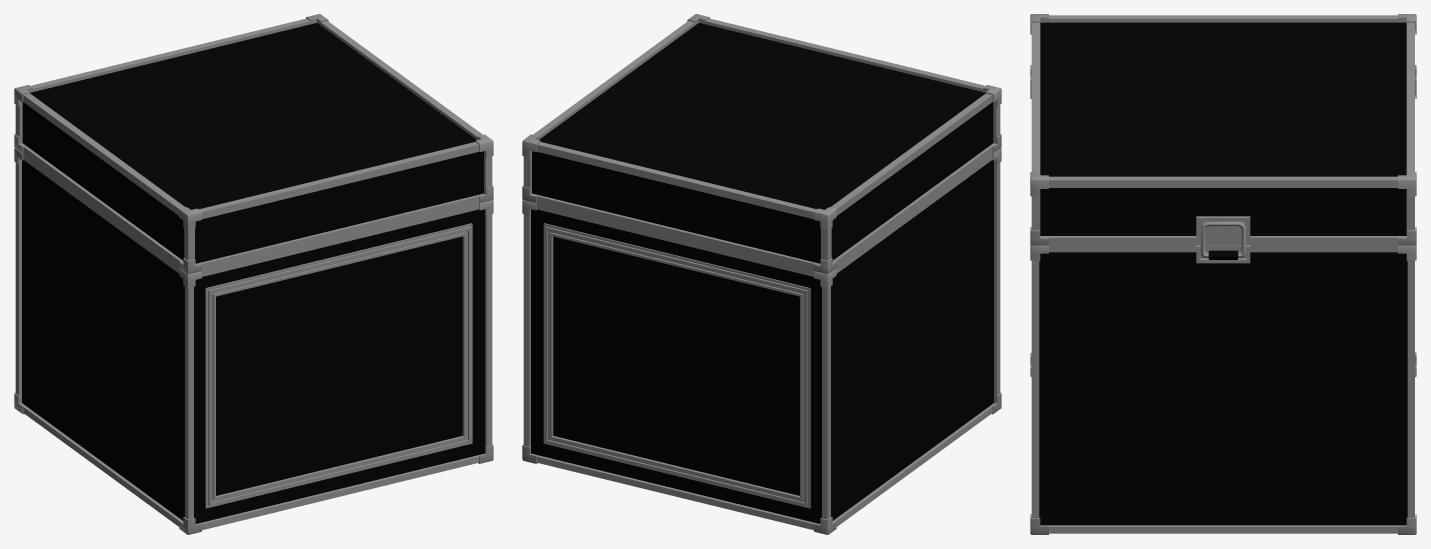
File: StorageCrate_08.glb
The picture shows the model from 3 angles, left to right: view 1: azimuth 30°, elevation 25°; view 2: azimuth 150°, elevation 25°; view 3: azimuth 270°, elevation 25°; orthographic projection. The views are drawn at different scales.
Visible parts, largest first — view 1: Mesh_StorageCrate_08; view 2: Mesh_StorageCrate_08; view 3: Mesh_StorageCrate_08.
Boxes of the visible parts, <box> form: Mesh_StorageCrate_08: <box>14,14,493,534</box>; Mesh_StorageCrate_08: <box>522,14,1001,534</box>; Mesh_StorageCrate_08: <box>1030,14,1416,534</box>.
Bounding box in the file's own units: 1.01 × 1 × 0.9853.
1 material, 1 textured.
